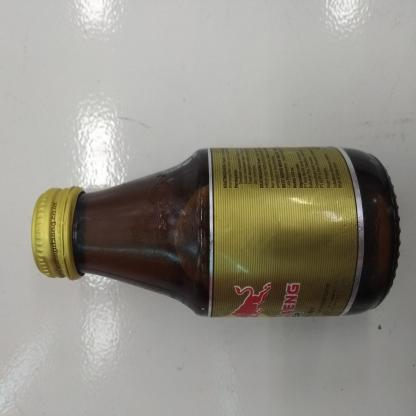glass: (27, 138, 404, 322)
